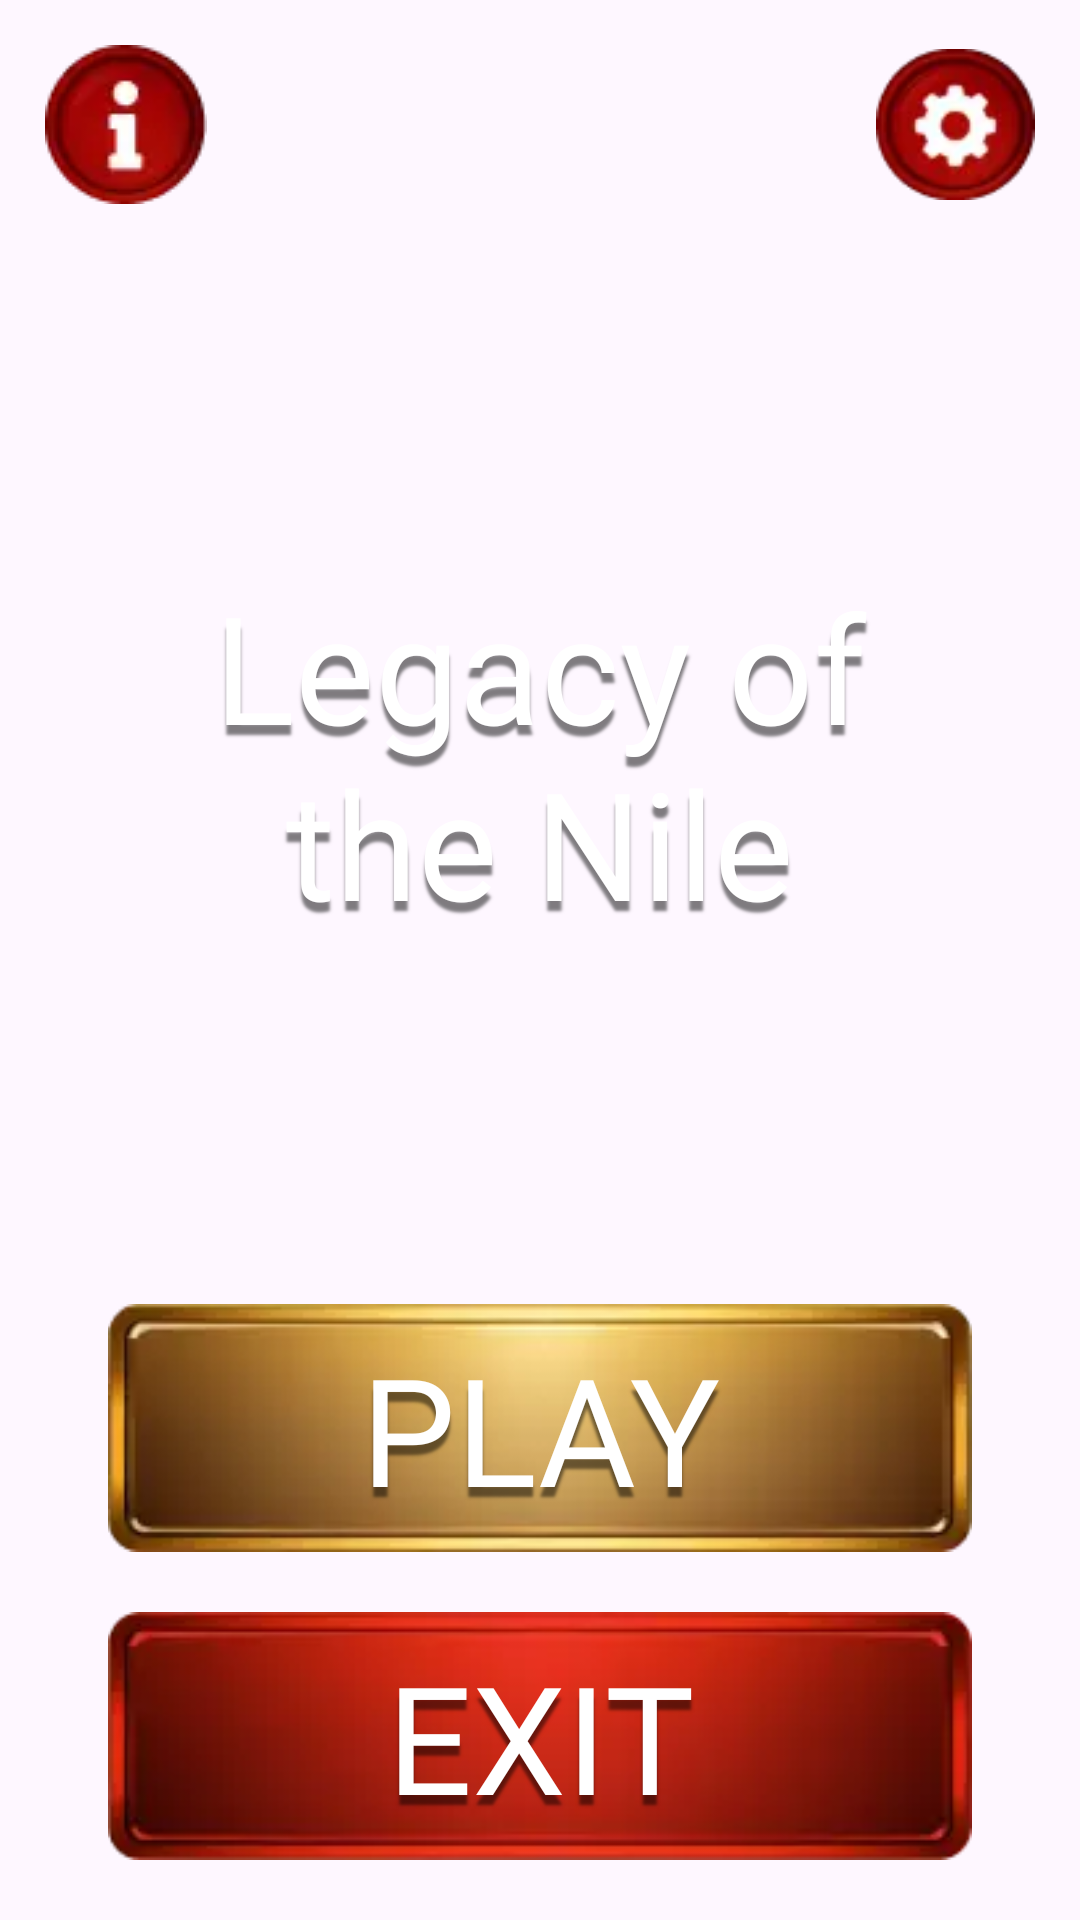

Icons on this 1080px×1920px Android screen, each with its box as [x1, y1, x2, y2]:
rules: [45, 45, 207, 204]
settings: [876, 49, 1035, 200]
